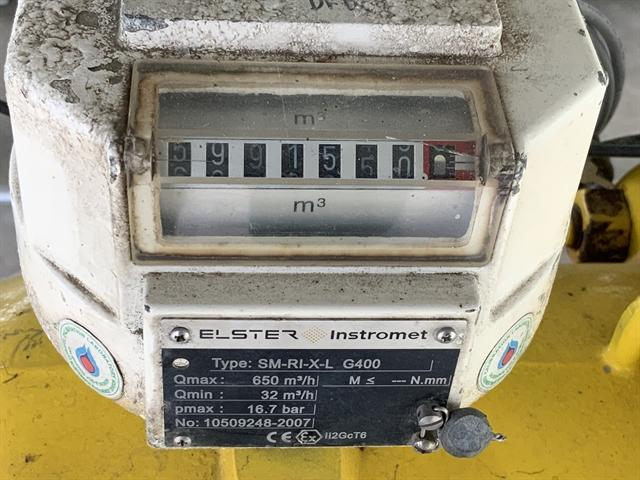analog_dial: (157, 137, 476, 180)
